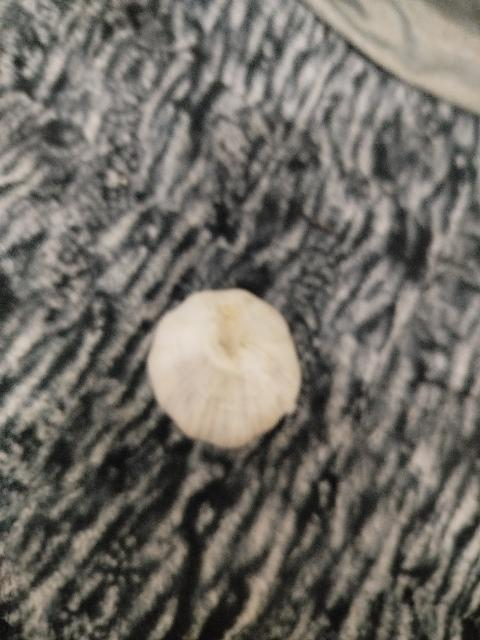garlic: (146, 287, 302, 449)
